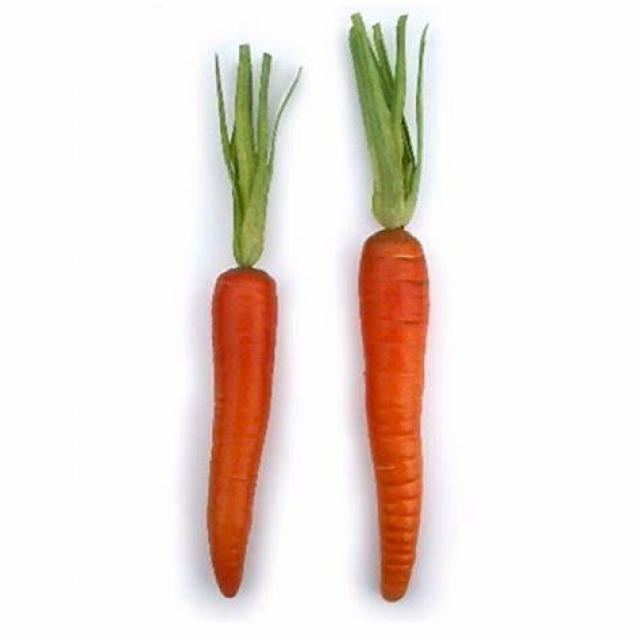Carrot: (335, 19, 449, 605), (184, 54, 282, 598)
